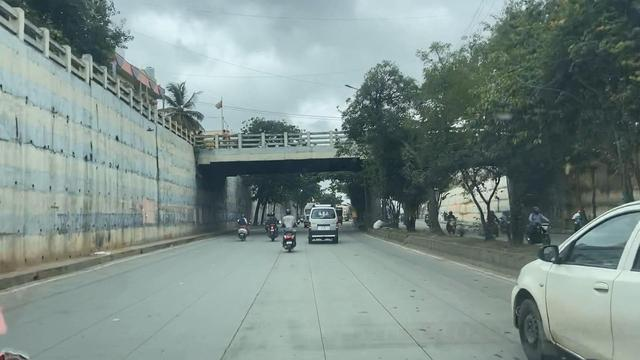LMV: (508, 225, 640, 349)
